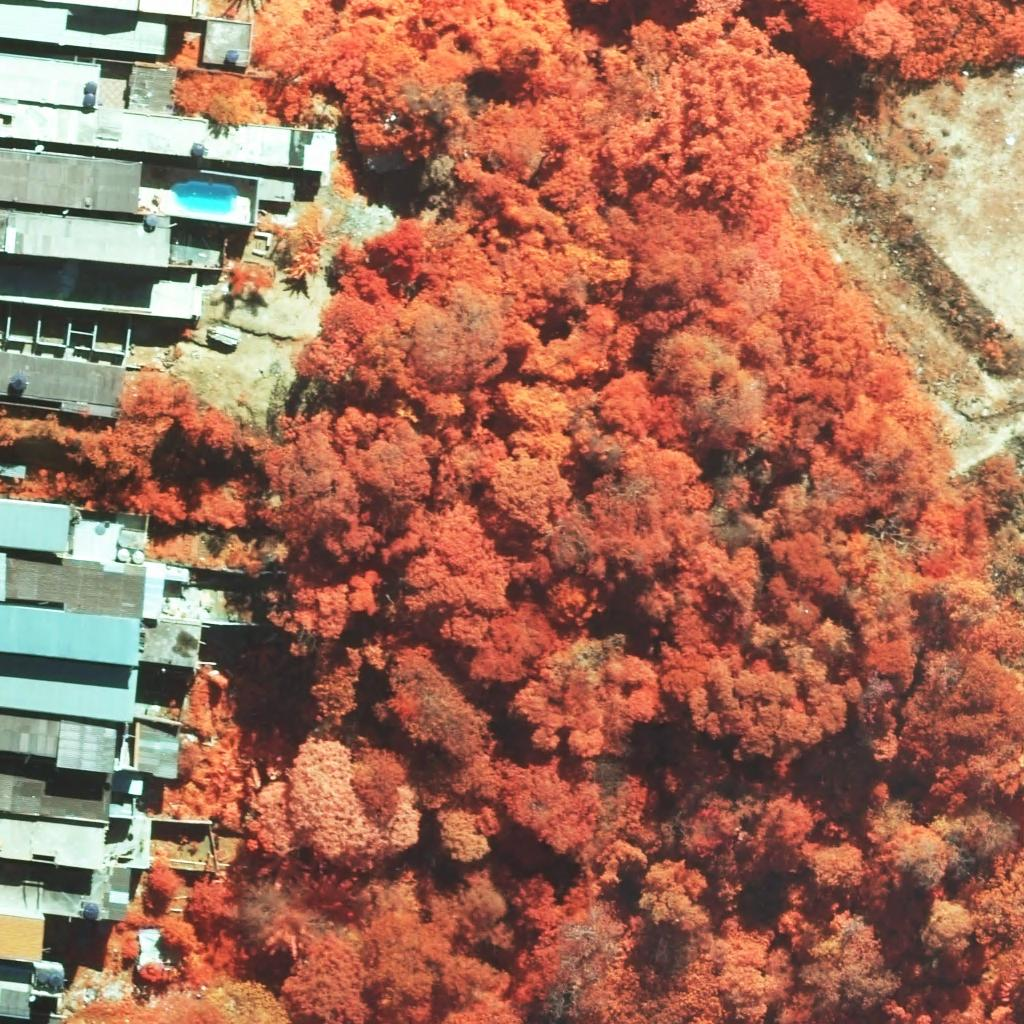pool: (172, 181, 235, 214)
